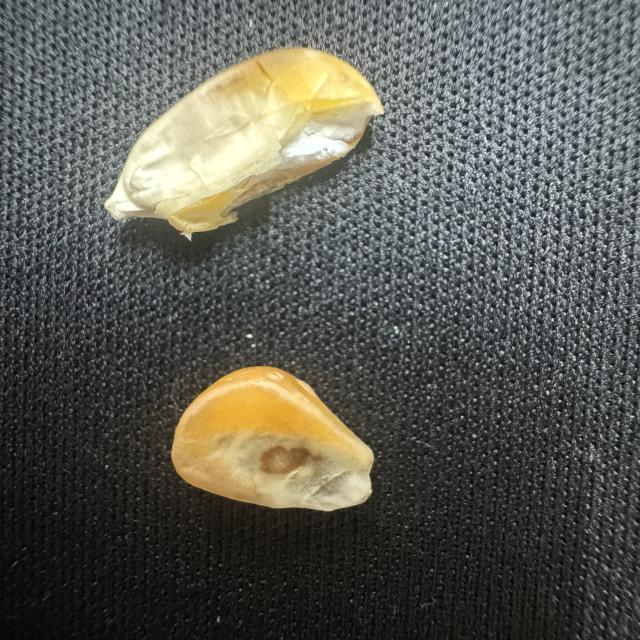Bad-Seed: (97, 40, 396, 254), (140, 358, 392, 541)
